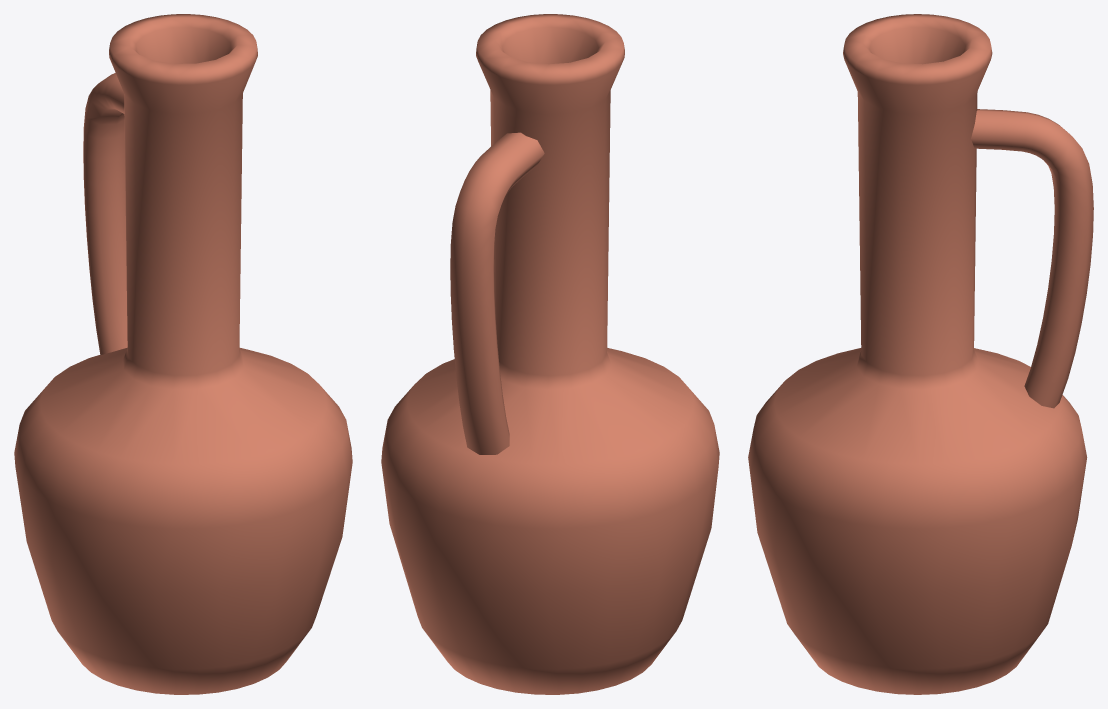
File: ClayPot_08 1.fbx
3 renders of one model, left to right at view 1: azimuth 30°, elevation 25°; view 2: azimuth 150°, elevation 25°; view 3: azimuth 270°, elevation 25°, orthographic.
Parts seen in each view (by area): view 1: ClayPot_08; view 2: ClayPot_08; view 3: ClayPot_08.
Part boxes in pixels (x1,y1,x2,y2): ClayPot_08: [14, 14, 352, 694]; ClayPot_08: [381, 14, 719, 694]; ClayPot_08: [748, 14, 1093, 694].
Bounding box in the file's own units: 31.01 × 61.43 × 31.62.
